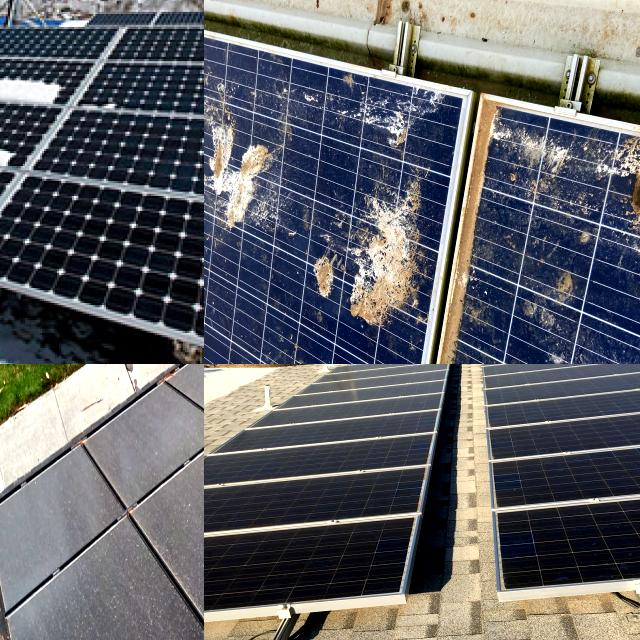bird: (343, 0, 469, 169), (281, 262, 399, 364), (204, 161, 278, 259), (407, 237, 462, 364), (288, 190, 369, 254)
dust: (204, 526, 372, 601), (241, 428, 365, 520), (51, 535, 138, 640), (546, 399, 640, 492), (539, 502, 640, 566)
panel: (0, 179, 86, 278), (0, 56, 75, 132), (0, 112, 76, 173), (0, 73, 51, 149), (0, 45, 52, 97), (0, 28, 28, 119), (66, 88, 130, 124), (0, 172, 35, 202)
